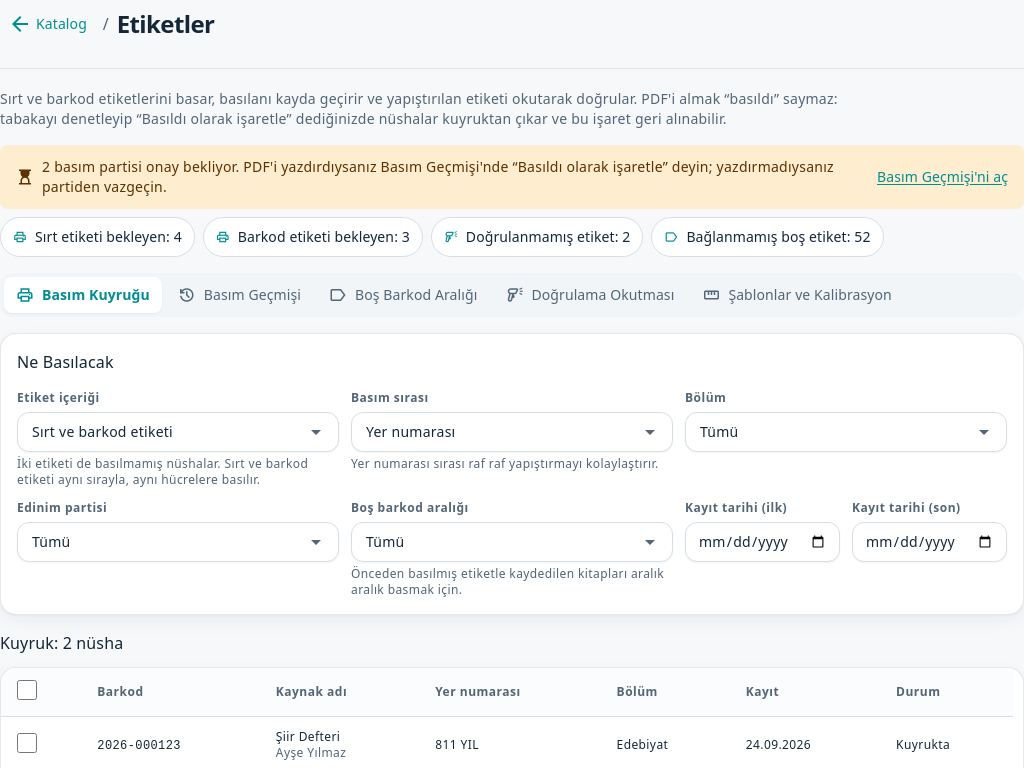
Scenario: Etiketler — sayfa › onay bekleyen parti öne çıkar ve Basım Geçmişi'ne götürür
The width and height of the screenshot is (1024, 768).
Expected: the text "2 basım partisi onay bekliyor" is shown, top-left (42, 157), bottom-right (869, 197)
Click the button "Basım Geçmişi'ni aç" at (943, 177), box top-left (877, 167), bottom-right (1008, 187)
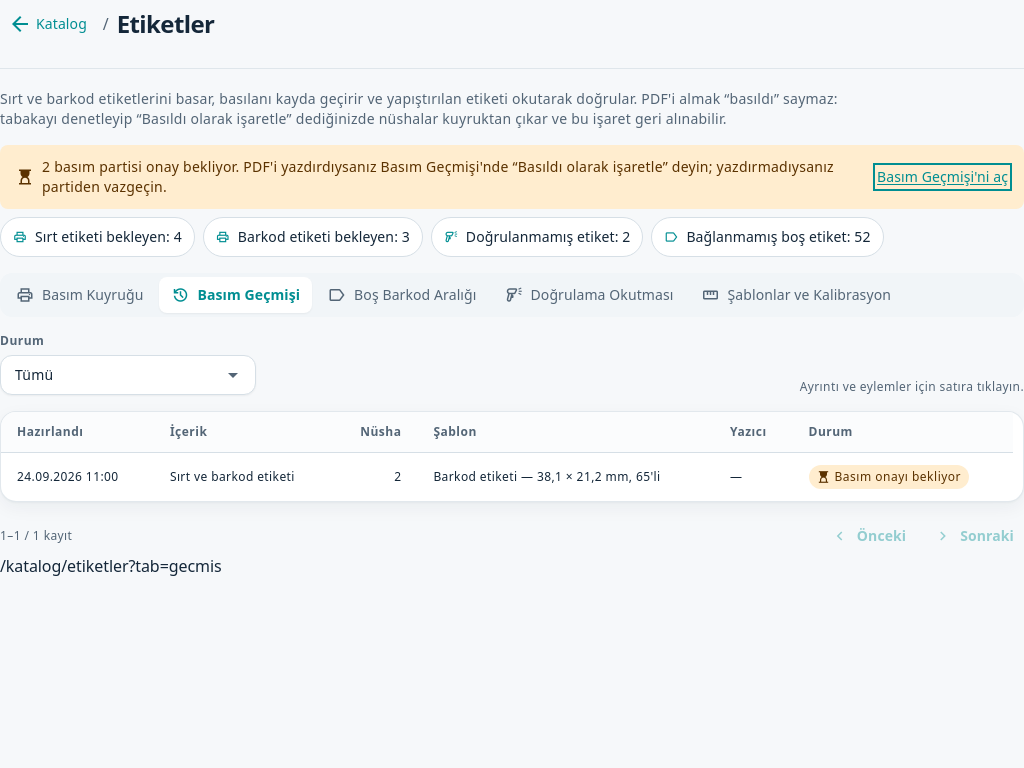
Now the text with test id "adres" shows "?tab=gecmis", box top-left (0, 555), bottom-right (222, 577)
